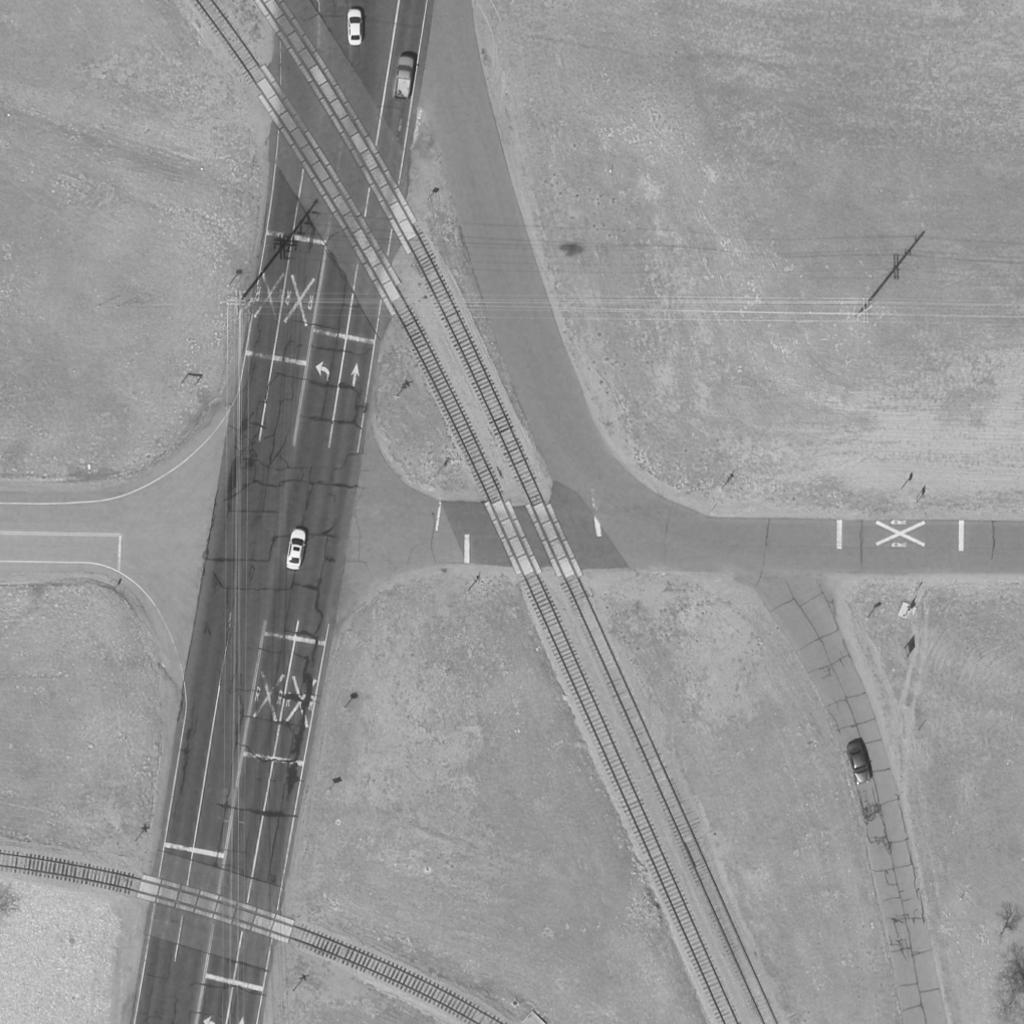vehicle: (846, 741, 874, 785), (286, 528, 308, 572), (395, 56, 415, 100), (348, 8, 362, 46)
